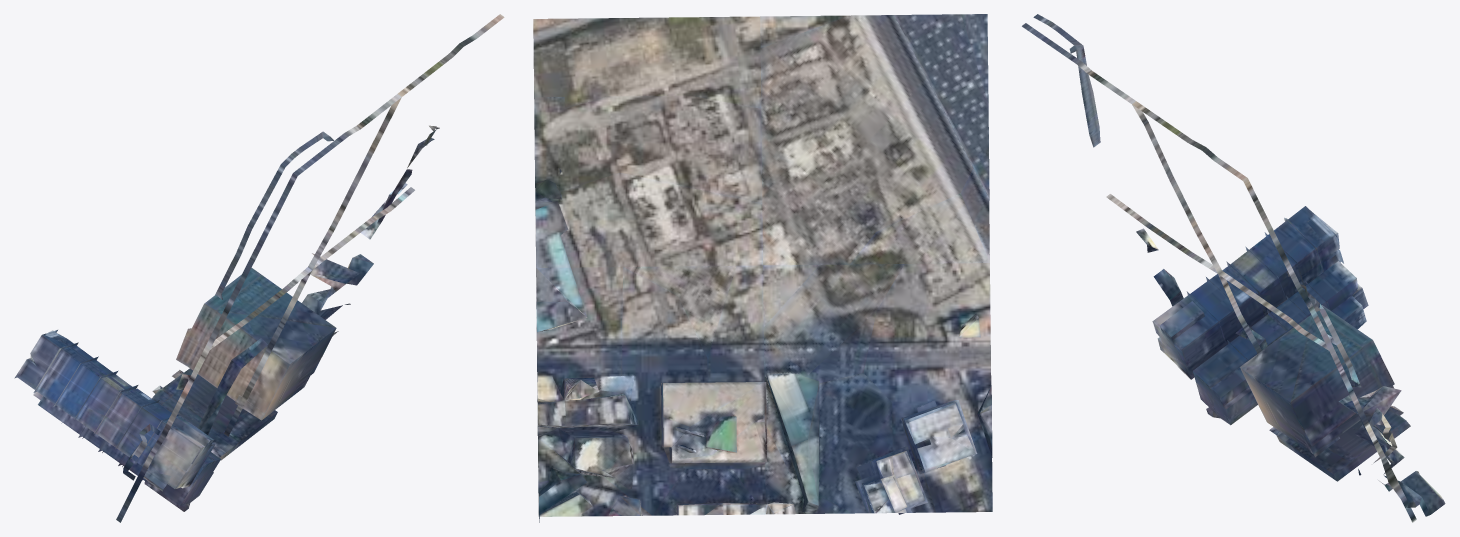
The picture shows the model from 3 angles, left to right: view 1: azimuth 30°, elevation 25°; view 2: azimuth 150°, elevation 25°; view 3: azimuth 270°, elevation 25°; orthographic projection. The views are drawn at different scales.
Size of the model in its own units: 339 by 290 by 275.
1 material, 1 textured.
